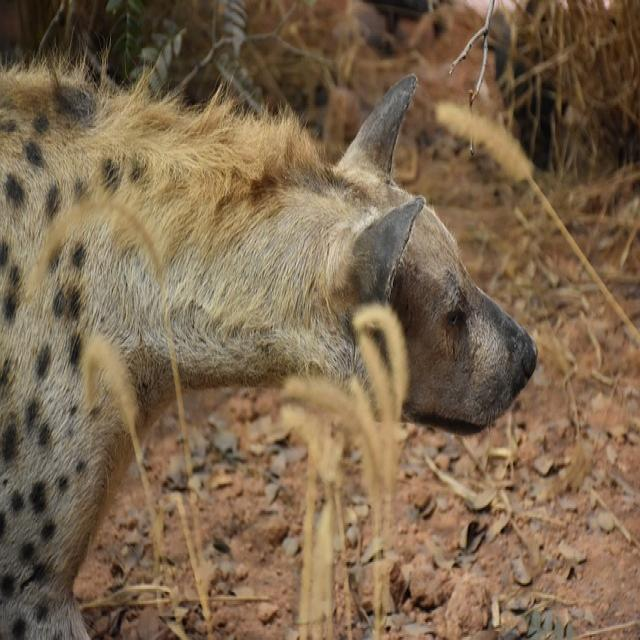Carnivorous: (0, 58, 539, 640)
